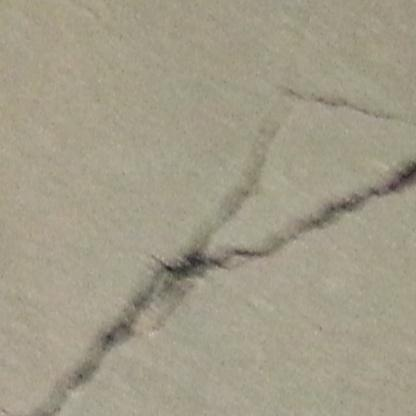Cracks: (12, 146, 416, 416), (222, 155, 269, 224), (312, 95, 374, 120)
